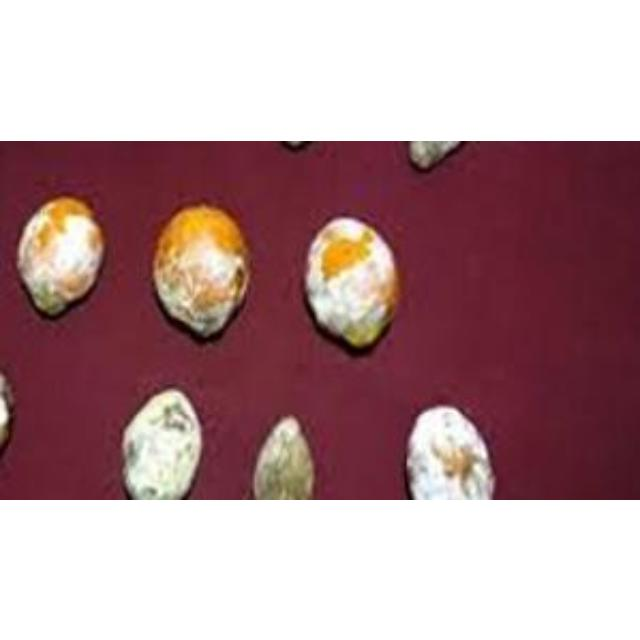damaged: (146, 208, 260, 346), (302, 212, 402, 348), (14, 193, 106, 315), (120, 387, 204, 498), (402, 404, 493, 500), (250, 415, 316, 499)
